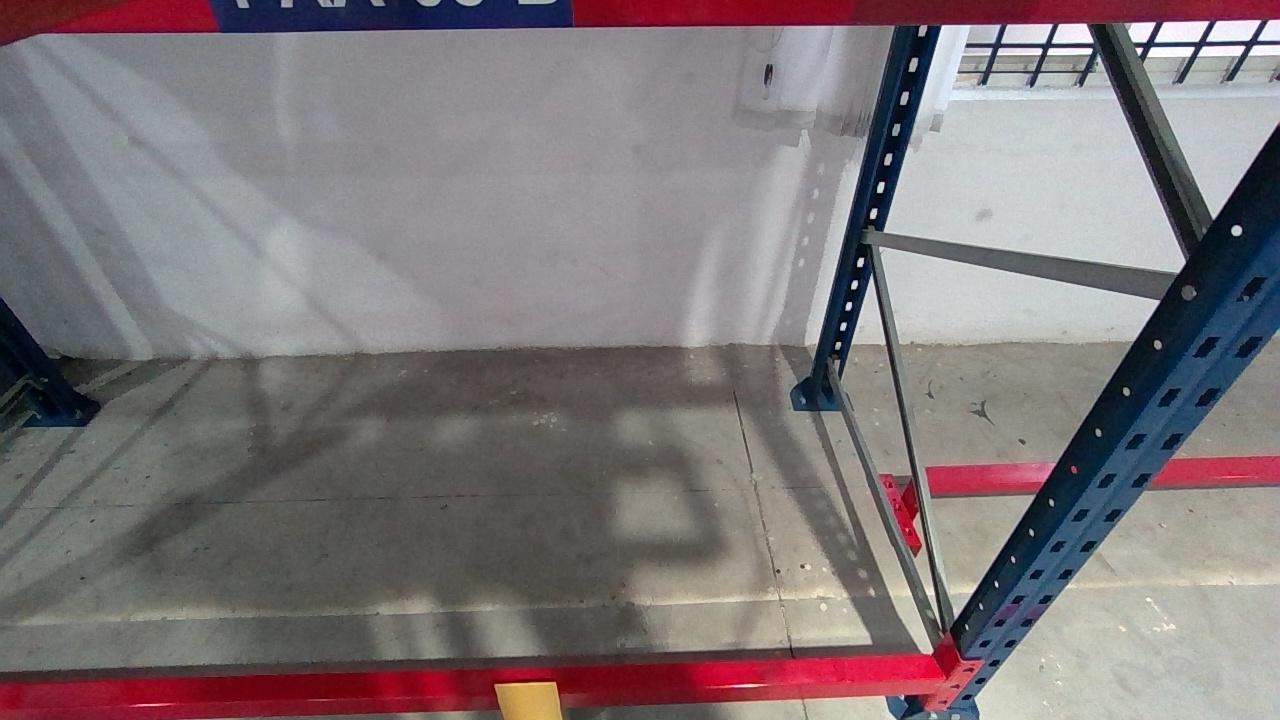h_rack: (0, 655, 936, 720), (0, 0, 1280, 31)
orange_strip: (494, 680, 566, 720)
